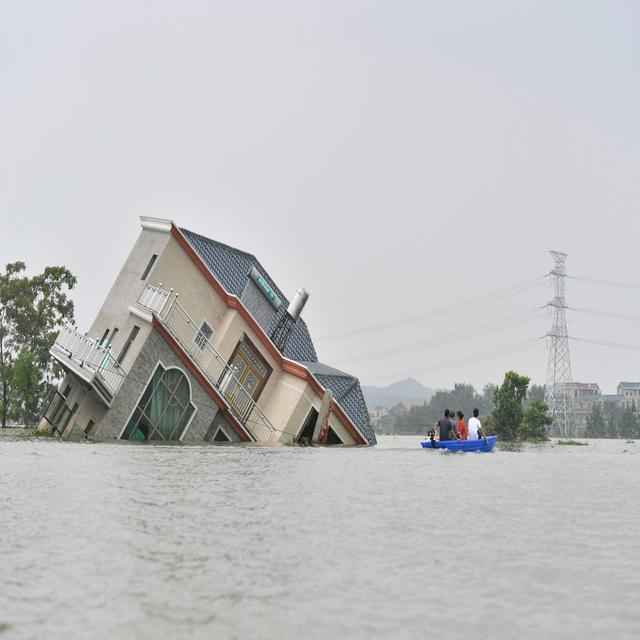Person-RiskLevel3: (423, 393, 510, 458)
